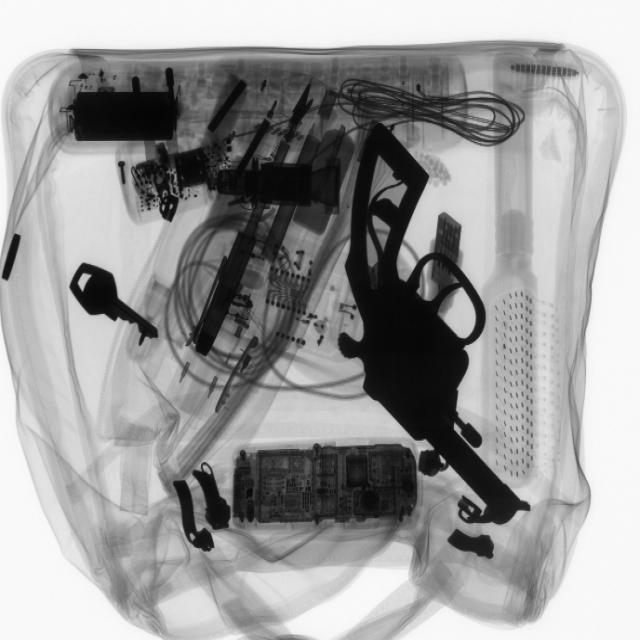GUN: (338, 124, 514, 520)
